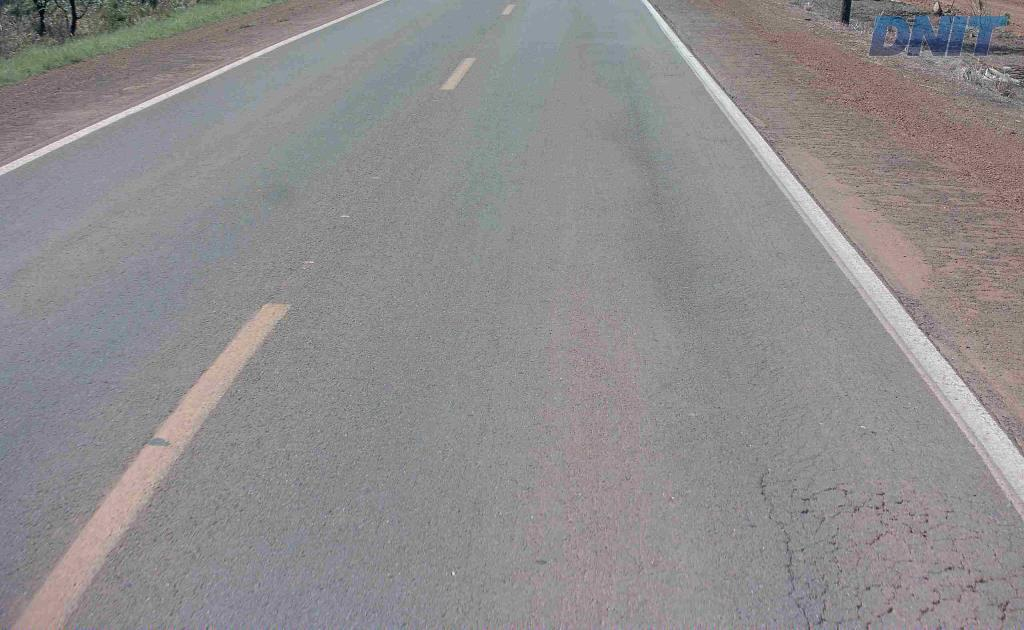crack: (775, 520, 801, 597)
